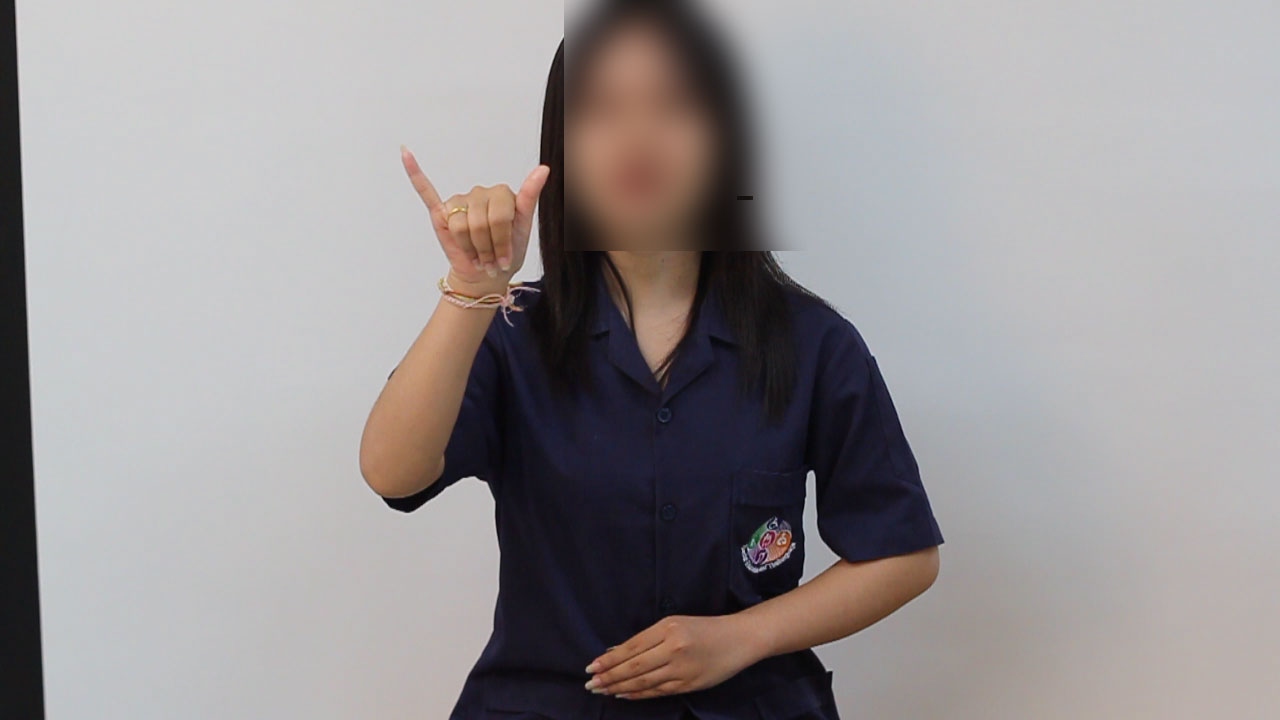yor: (386, 139, 559, 290)
